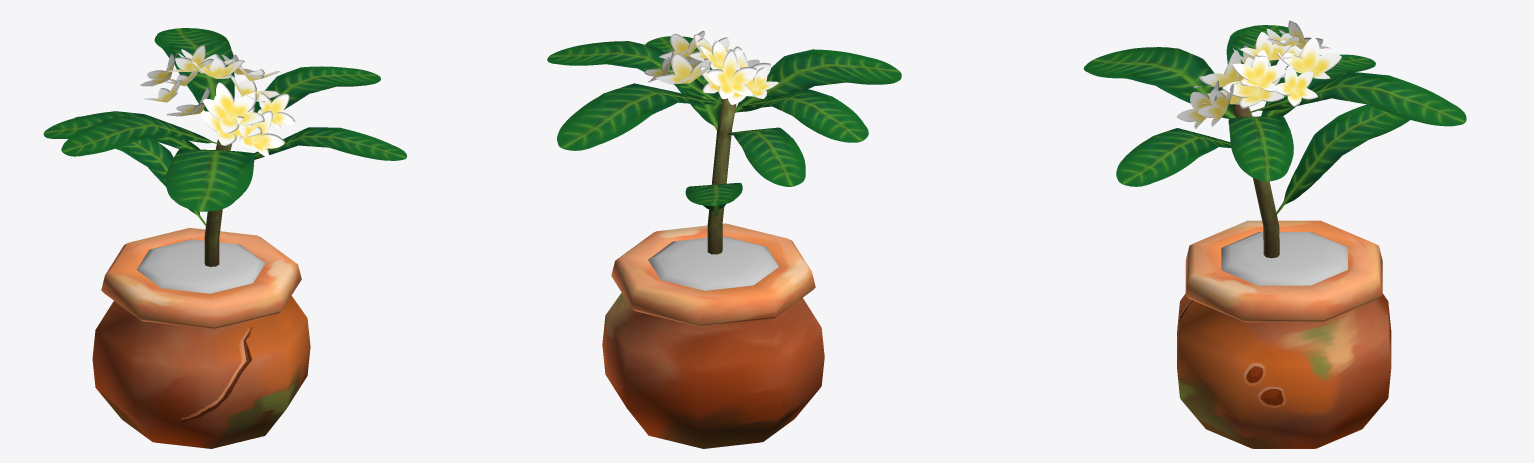
File: Frangipani.fbx
3 renders of one model, left to right at view 1: azimuth 30°, elevation 25°; view 2: azimuth 150°, elevation 25°; view 3: azimuth 270°, elevation 25°, orthographic. The views are drawn at different scales.
Visible parts, largest first — view 1: Frangipani; view 2: Frangipani; view 3: Frangipani.
Part boxes in pixels (x1,y1,x2,y2): Frangipani: [43, 28, 407, 448]; Frangipani: [547, 30, 901, 448]; Frangipani: [1083, 20, 1466, 448].
Bounding box in the file's own units: 120 × 114 × 135.
